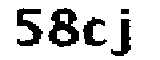5: (10, 4, 43, 49)
8: (46, 5, 80, 50)
c: (81, 17, 110, 48)
j: (110, 6, 141, 60)
